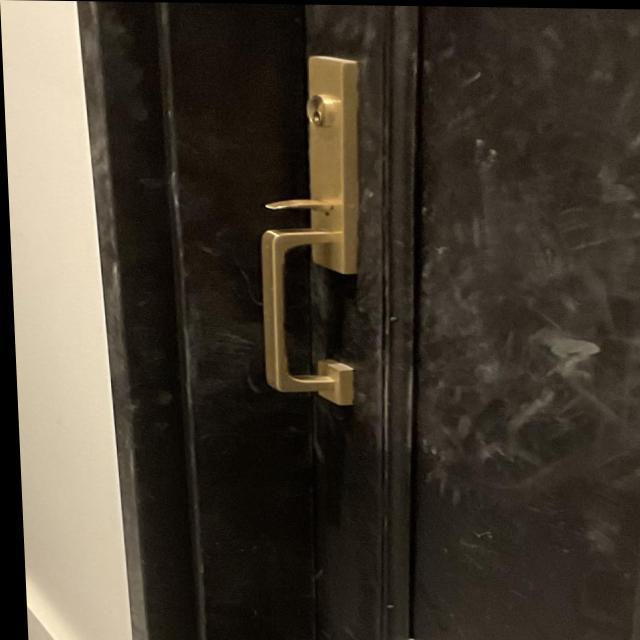door_handle: (227, 219, 396, 411)
